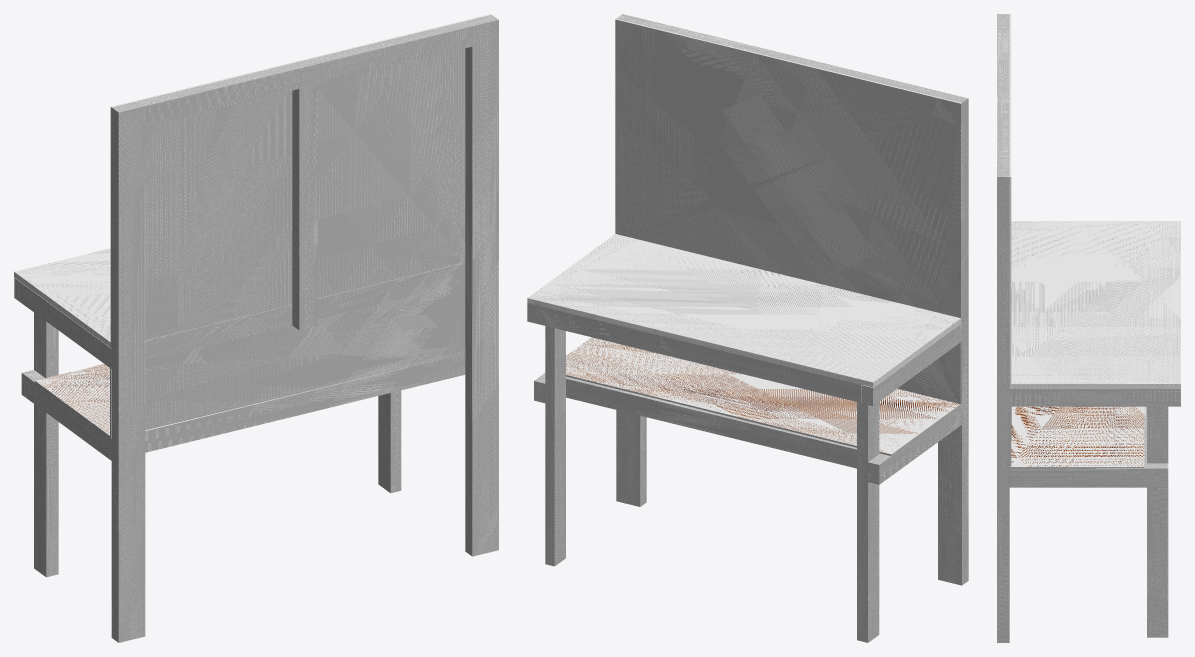
3 views of the same model, side by side, from view 1: azimuth 30°, elevation 25°; view 2: azimuth 150°, elevation 25°; view 3: azimuth 270°, elevation 25° (orthographic). The views are drawn at different scales.
Parts seen in each view (by area): view 1: mesh1_mesh1-geometry; view 2: mesh1_mesh1-geometry; view 3: mesh1_mesh1-geometry.
Boxes of the visible parts, x1,y1,x2,y2 form: mesh1_mesh1-geometry: [14, 14, 498, 642]; mesh1_mesh1-geometry: [527, 14, 968, 642]; mesh1_mesh1-geometry: [997, 14, 1180, 642].
Size of the model in its own units: 0.5773 by 0.7689 by 0.275.
